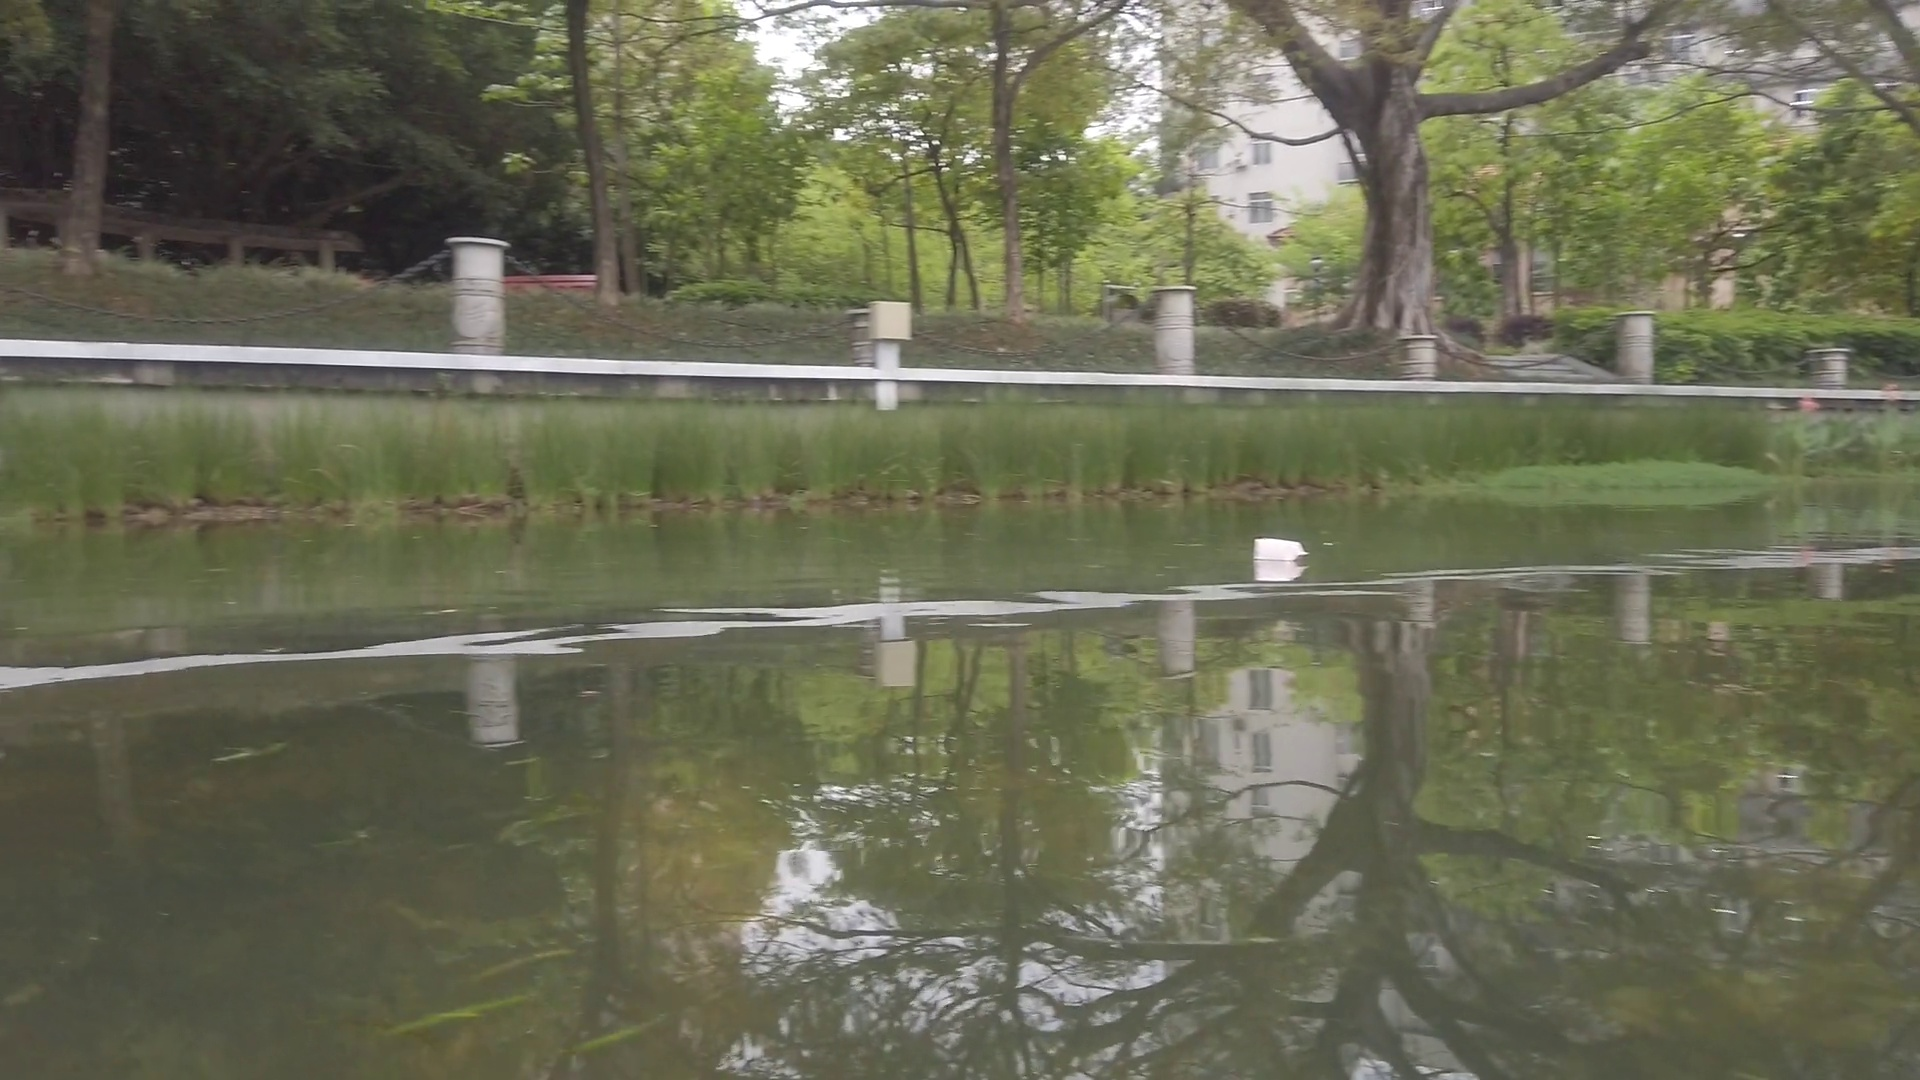carton: (1253, 535, 1308, 564)
